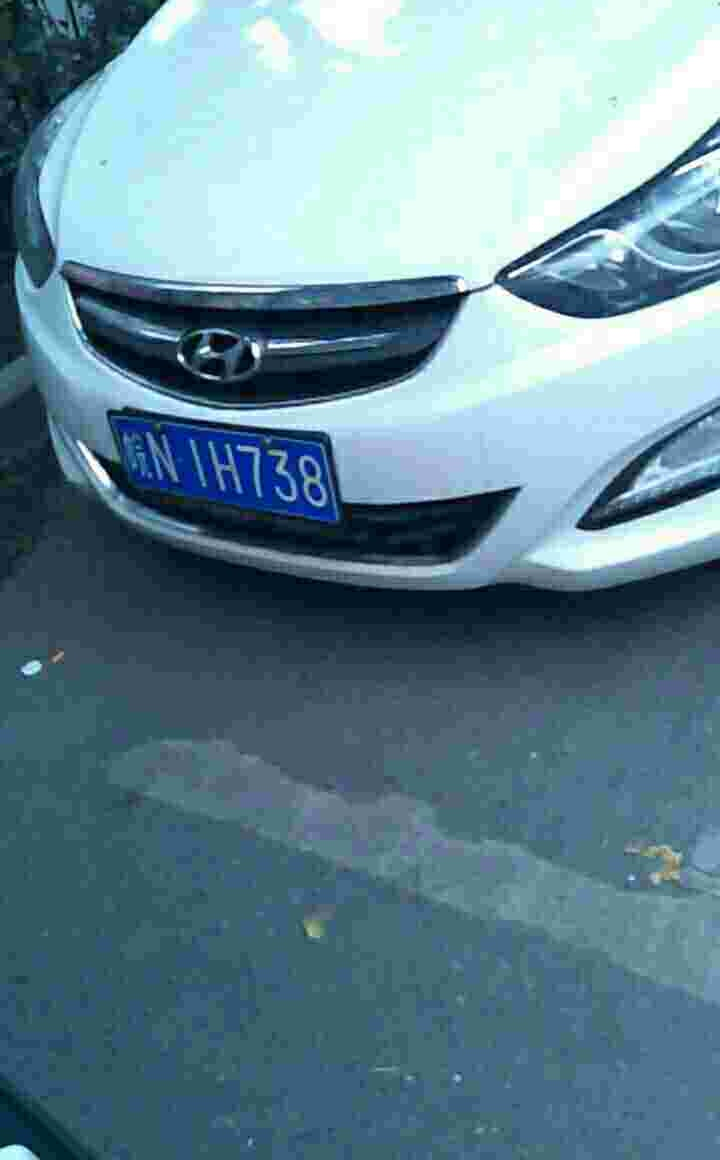license_plate: (108, 412, 341, 512)
